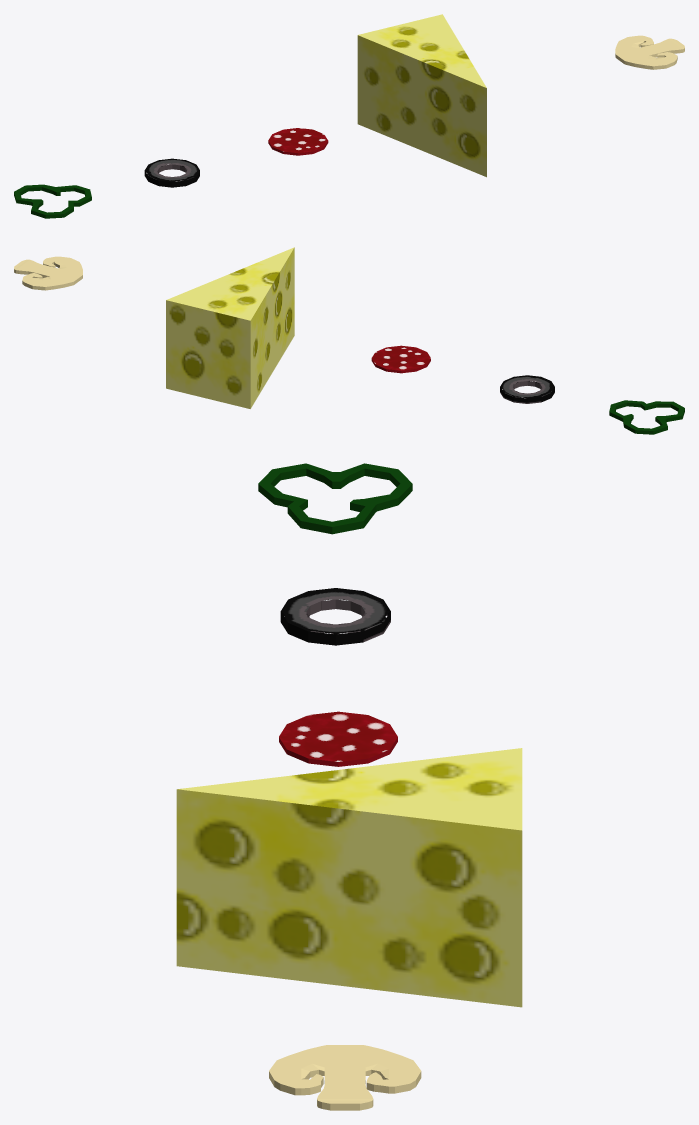
Rendered from Ingredientes.fbx.
The picture shows the model from 3 angles, top to bottom: view 1: azimuth 30°, elevation 25°; view 2: azimuth 150°, elevation 25°; view 3: azimuth 270°, elevation 25°; orthographic projection. The views are drawn at different scales.
Visible parts, largest first — view 1: Queijo, Champignon, Peperoni, Pimentao, Azeitona; view 2: Queijo, Champignon, Peperoni, Pimentao, Azeitona; view 3: Queijo, Champignon, Peperoni, Pimentao, Azeitona.
Boxes of the visible parts, x1,y1,x2,y2 form: Queijo: [357, 14, 486, 177]; Champignon: [615, 35, 684, 69]; Peperoni: [268, 128, 328, 155]; Pimentao: [14, 184, 91, 218]; Azeitona: [144, 158, 199, 187]; Queijo: [166, 247, 294, 408]; Champignon: [14, 256, 82, 290]; Peperoni: [371, 345, 430, 373]; Pimentao: [609, 400, 684, 434]; Azeitona: [500, 375, 554, 403]; Queijo: [176, 748, 522, 1007]; Champignon: [269, 1045, 421, 1110]; Peperoni: [279, 711, 397, 766]; Pimentao: [258, 463, 412, 534]; Azeitona: [280, 588, 390, 645].
Bounding box in the file's own units: 213 × 27.51 × 48.67.
